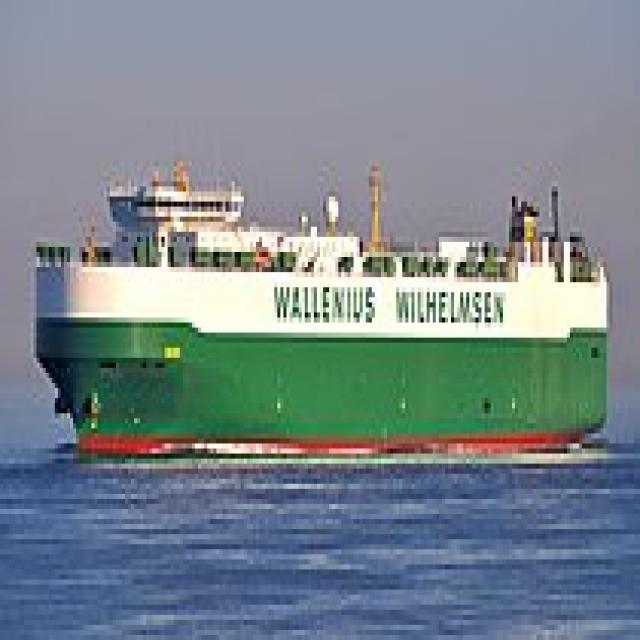Carrier: (28, 151, 610, 459)
